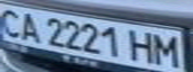1: (100, 24, 124, 58)
2: (78, 20, 103, 56), (39, 15, 66, 48), (60, 18, 84, 52)
A: (15, 10, 45, 43)
C: (0, 6, 27, 38)
H: (127, 28, 160, 64)
M: (151, 33, 184, 69)
